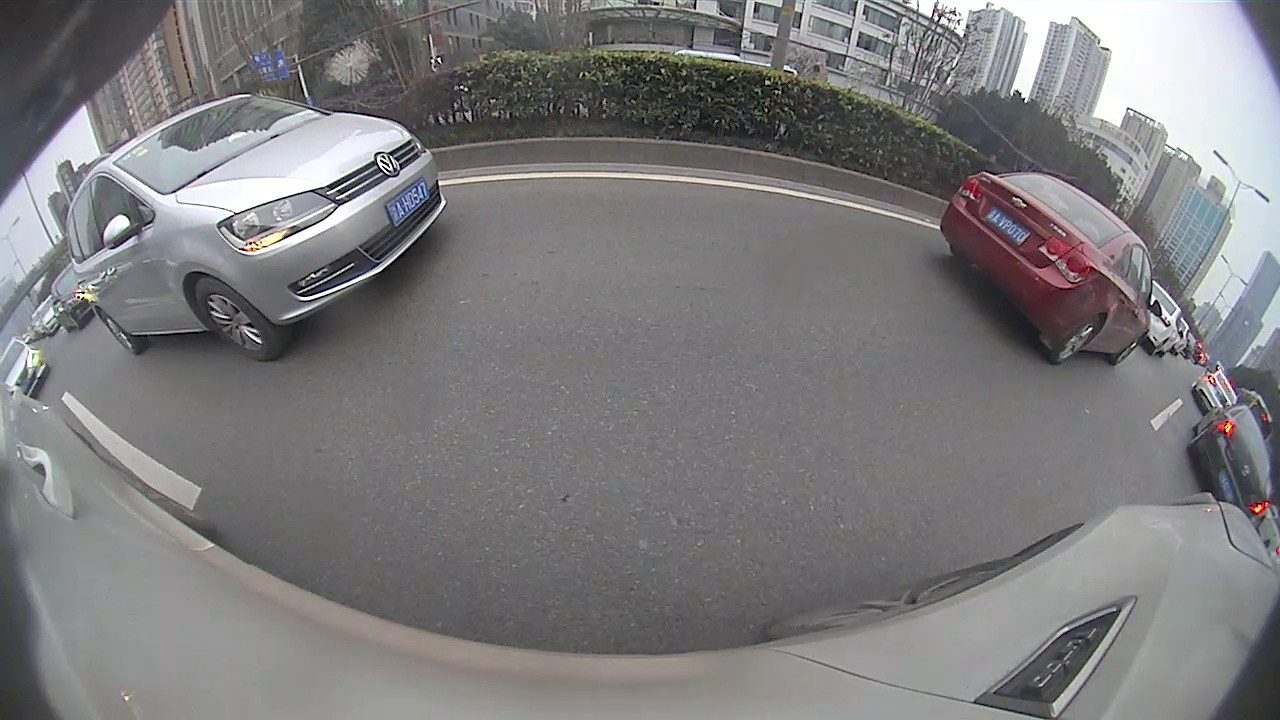car: (63, 93, 446, 362), (939, 169, 1165, 366), (1185, 396, 1275, 522), (48, 266, 102, 334), (1, 333, 50, 401), (1192, 367, 1245, 421)
front: (195, 276, 277, 362)
rear: (1049, 316, 1101, 364), (95, 309, 140, 356)
